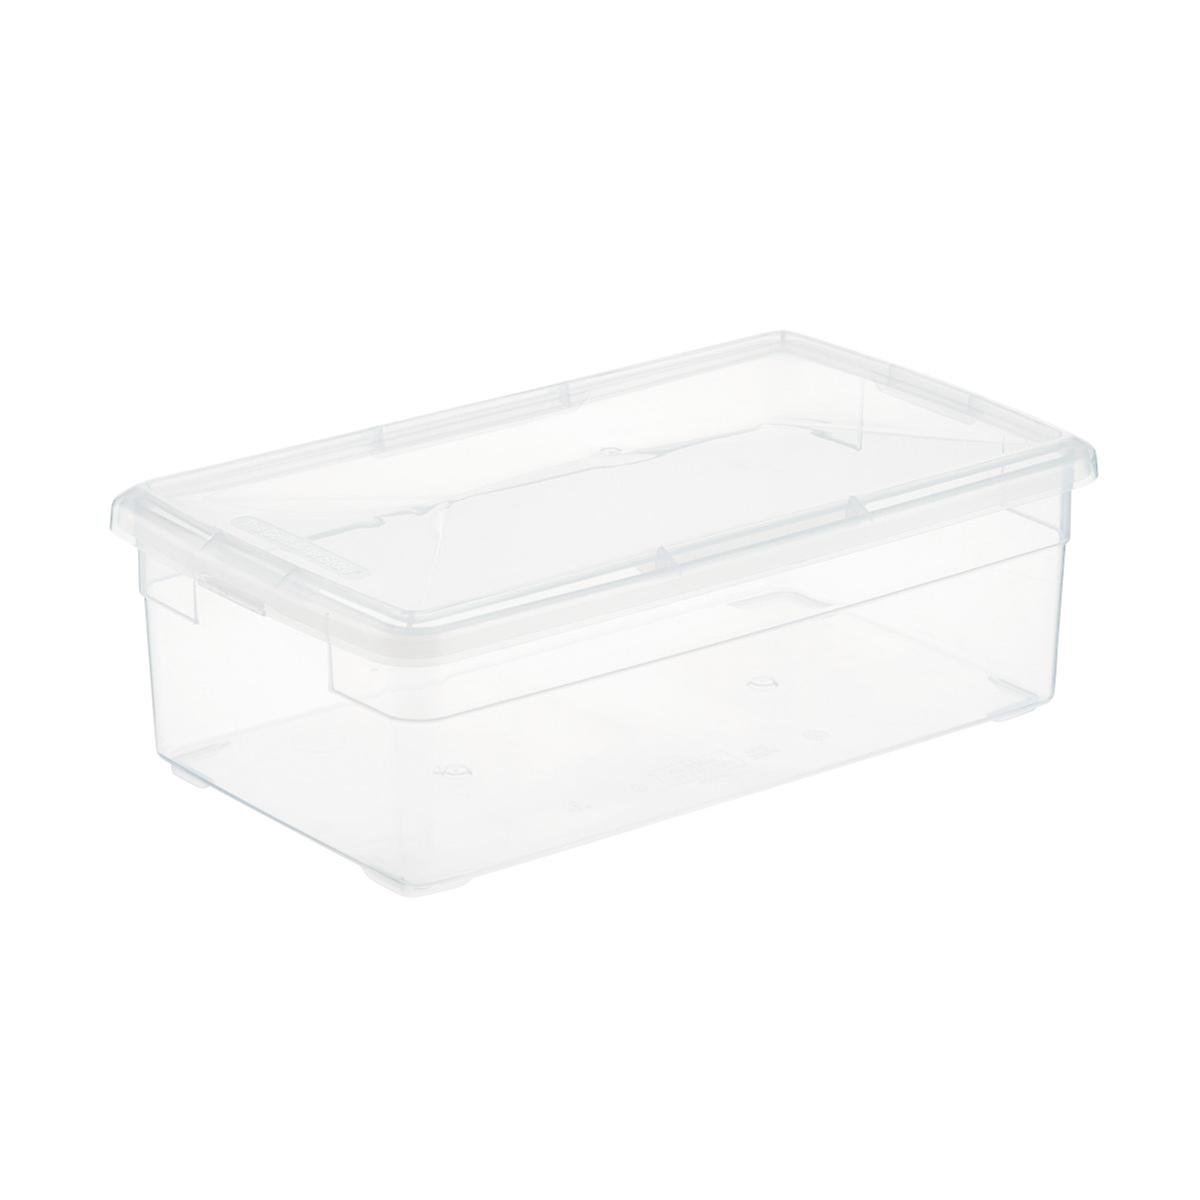PlasticBox: (96, 310, 1107, 900)
